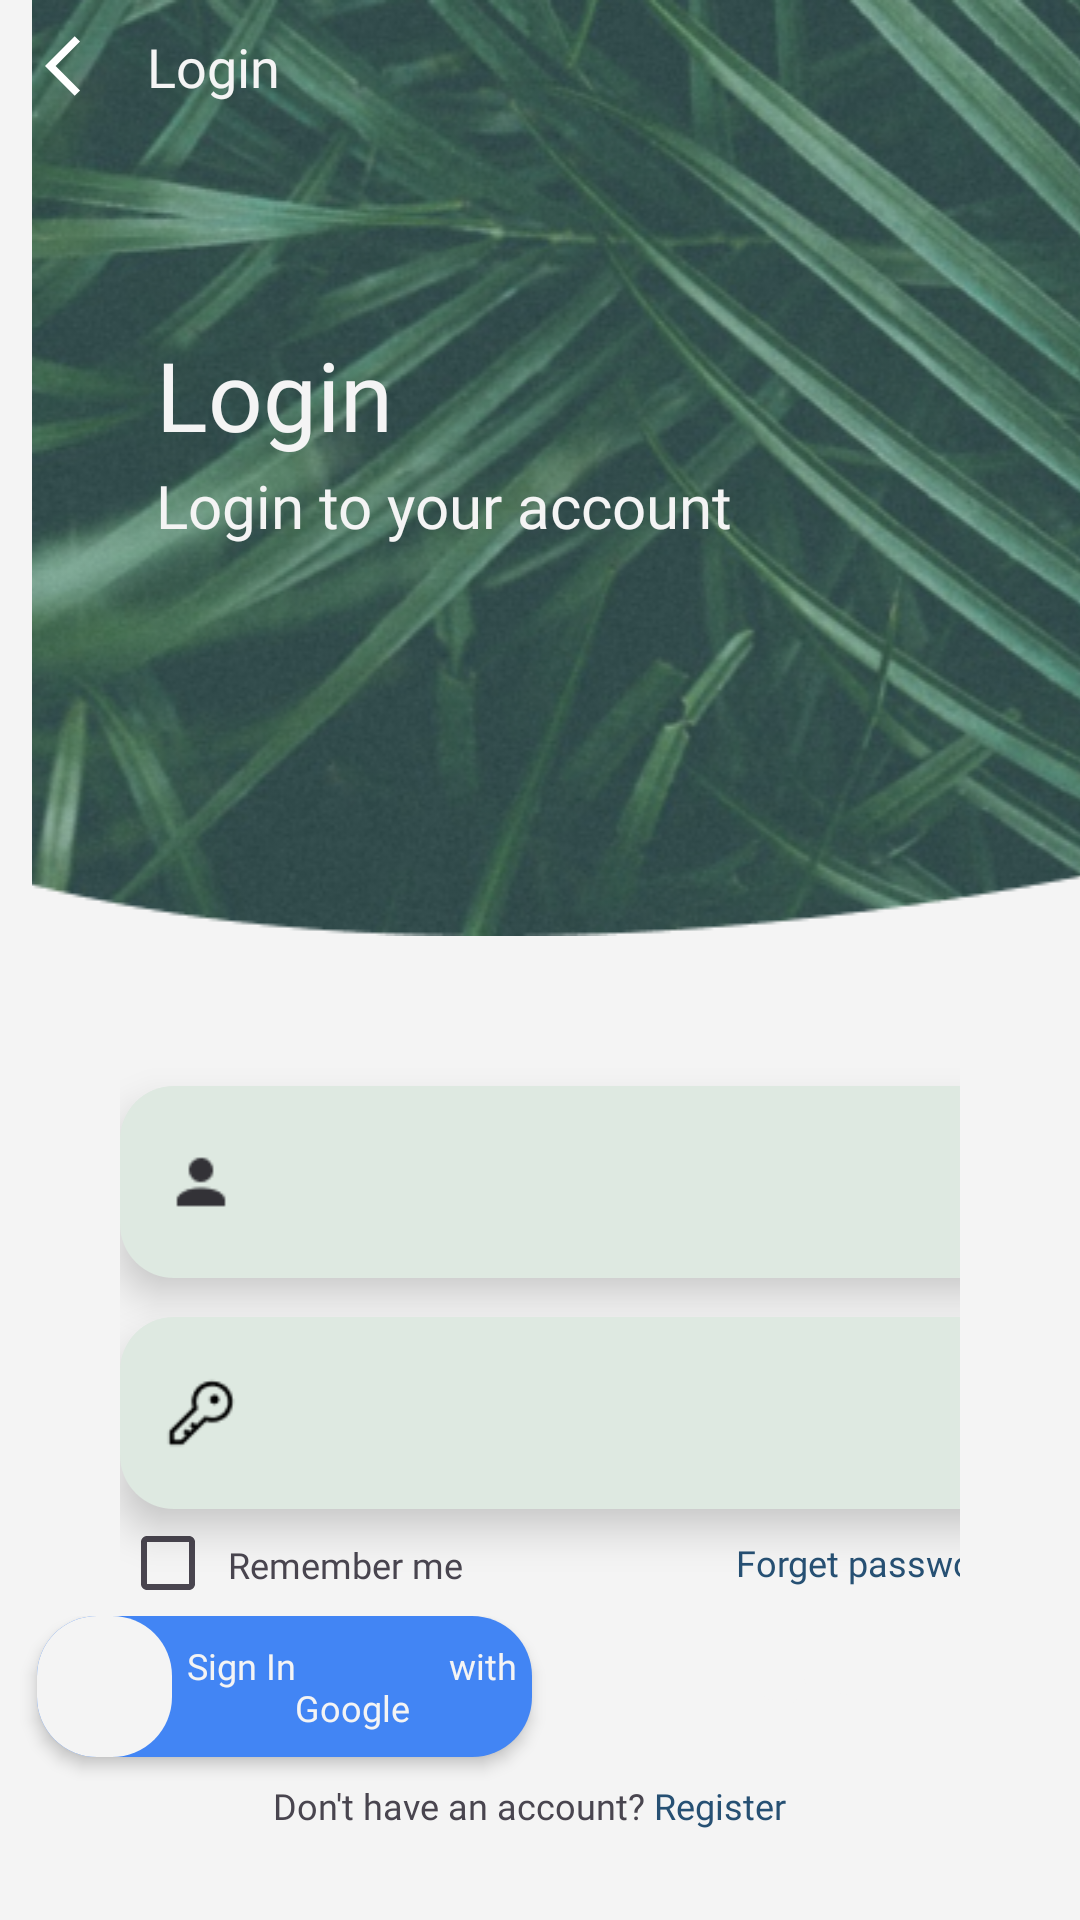

Screen size 1080×1920. Icon name, then its center in pixels as (x=x, y=y):
back: (x=79, y=66)
pass: (x=201, y=1413)
user: (x=201, y=1182)
